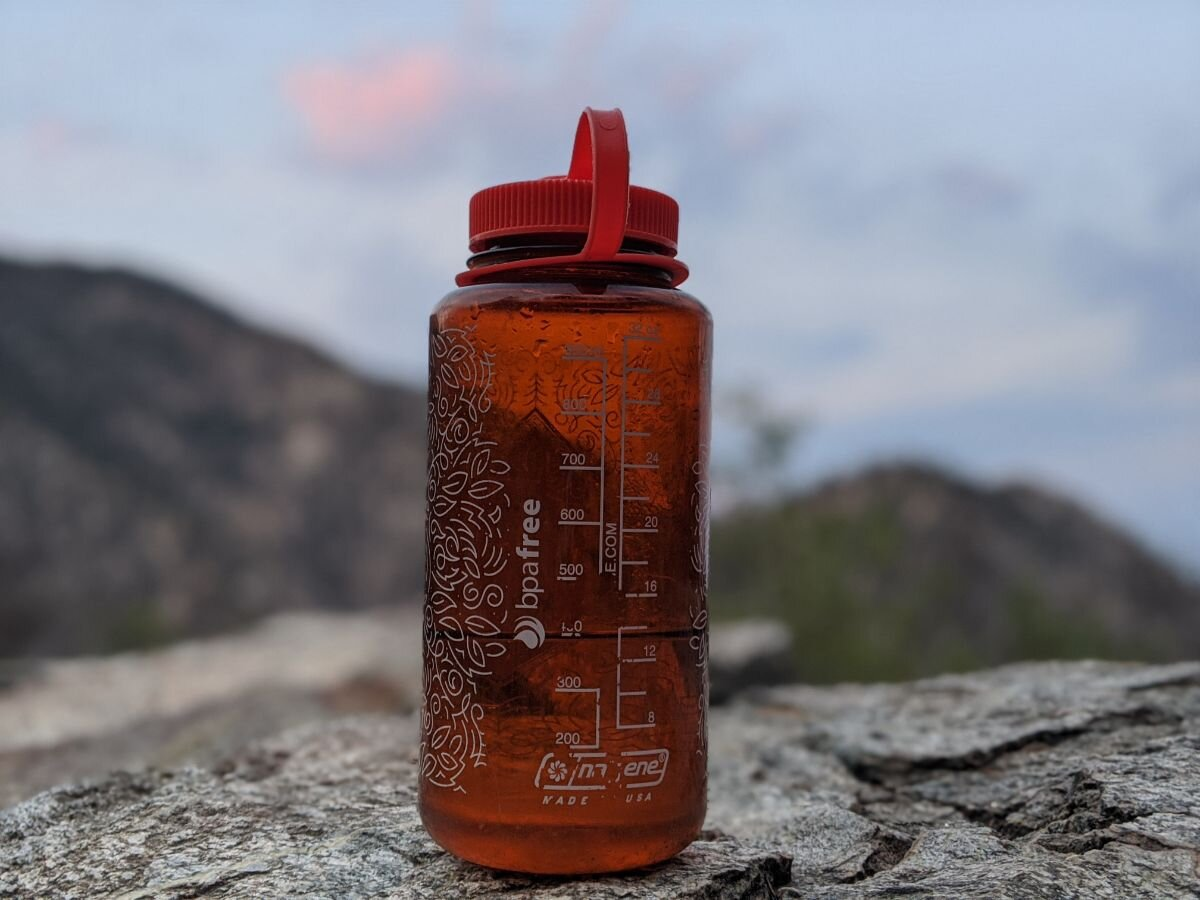bottle: (415, 106, 719, 875)
